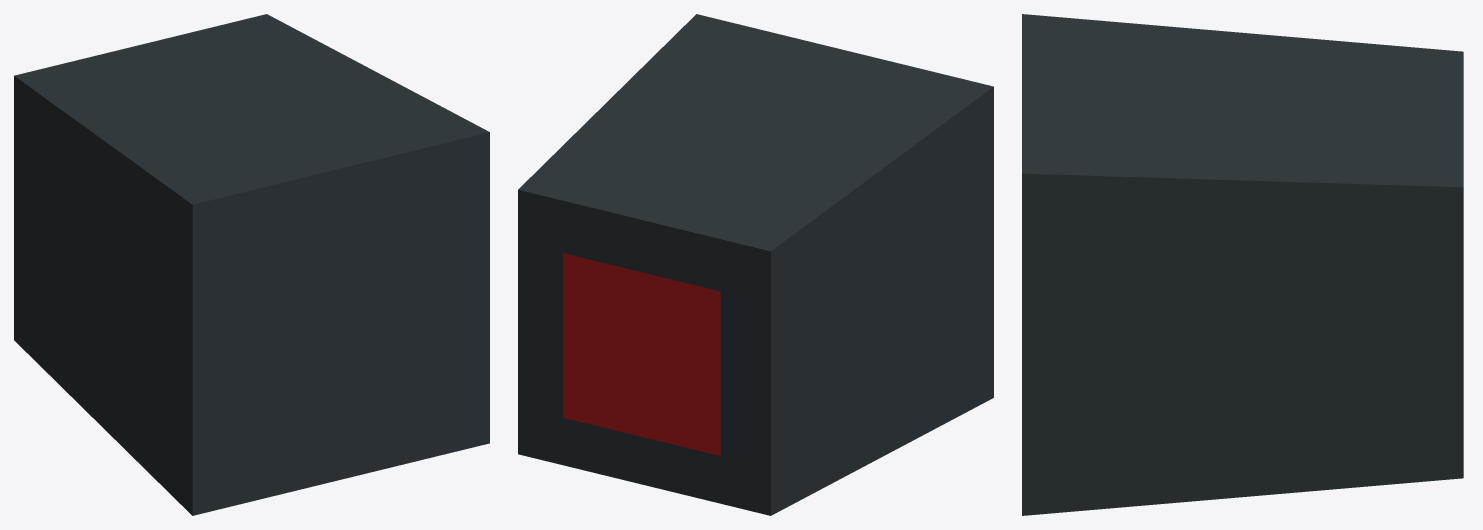
The picture shows the model from 3 angles, left to right: view 1: azimuth 30°, elevation 25°; view 2: azimuth 150°, elevation 25°; view 3: azimuth 270°, elevation 25°; orthographic projection. The views are drawn at different scales.
Visible parts, largest first — view 1: mount; view 2: mount; view 3: mount.
Boxes of the visible parts, x1=… form: mount: x1=14, y1=14, x2=489, y2=515; mount: x1=518, y1=14, x2=993, y2=515; mount: x1=1022, y1=14, x2=1463, y2=515.
Bounding box in the file's own units: 2.12 × 2.12 × 2.51.
